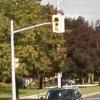Traffic light: (45, 10, 70, 41)
